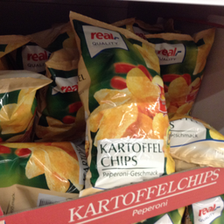chips: (69, 11, 176, 197), (147, 30, 213, 118)
